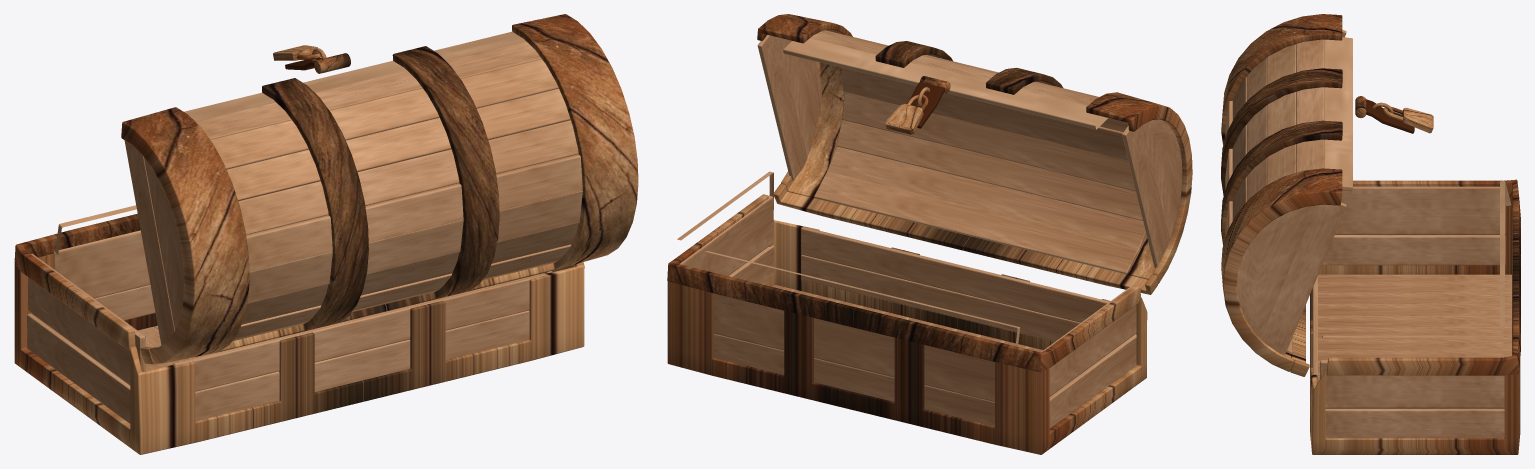
File: chest.fbx
3 views of the same model, side by side, from view 1: azimuth 30°, elevation 25°; view 2: azimuth 150°, elevation 25°; view 3: azimuth 270°, elevation 25° (orthographic). The views are drawn at different scales.
Visible parts, largest first — view 1: Cylinder.004, Cylinder.003, Cube.043, Cube.001, Cube.044, Cube.045, Cube.046, Cube.042, Cube, Cube.047, Cube.041, Cylinder.002 (+10 smaller); view 2: Cylinder.003, Cylinder.004, Cylinder.002, Cube.039, Cube.003, Cube.040, Cube.041, Cube.001, Cube.042, Cube, Cube.043, Cube.013 (+14 smaller); view 3: Cylinder.004, Cylinder.003, Cube.016, Cylinder.002, Cube.014, Cube.015, Cube.017, Cube.053, Cube.021, Cube.013, Cube.047, Cube.046 (+17 smaller).
Part boxes in pixels (x1,y1,x2,y2): Cylinder.004: (121,14,638,364); Cylinder.003: (14,254,584,454); Cube.043: (246,154,582,271); Cube.001: (173,273,546,391); Cube.044: (238,120,578,234); Cube.045: (227,88,570,201); Cube.046: (210,59,558,169); Cube.042: (247,190,582,304); Cube: (195,310,529,421); Cube.047: (196,41,541,139); Cube.041: (242,224,578,324); Cylinder.002: (14,213,140,350); Cylinder.003: (667,219,1147,454); Cylinder.004: (757,14,1192,294); Cylinder.002: (667,194,1141,372); Cube.039: (814,171,1140,274); Cube.003: (713,293,994,402); Cube.040: (827,146,1146,249); Cube.041: (836,120,1142,220); Cube.001: (801,227,1109,322); Cube.042: (842,92,1135,191); Cube: (801,255,1080,341); Cube.043: (841,68,1128,160); Cube.013: (783,38,1107,129); Cylinder.004: (1221,14,1342,376); Cylinder.003: (1310,197,1520,454); Cube.016: (1335,188,1505,234); Cylinder.002: (1326,179,1520,375); Cube.014: (1320,360,1504,408); Cube.015: (1325,408,1504,438); Cube.017: (1322,235,1505,265); Cube.053: (1237,205,1315,338); Cube.021: (1260,202,1346,355); Cube.013: (1324,37,1352,191); Cube.047: (1296,39,1324,172); Cube.046: (1267,44,1295,184).
Size of the model in its own units: 431 by 297 by 304.
